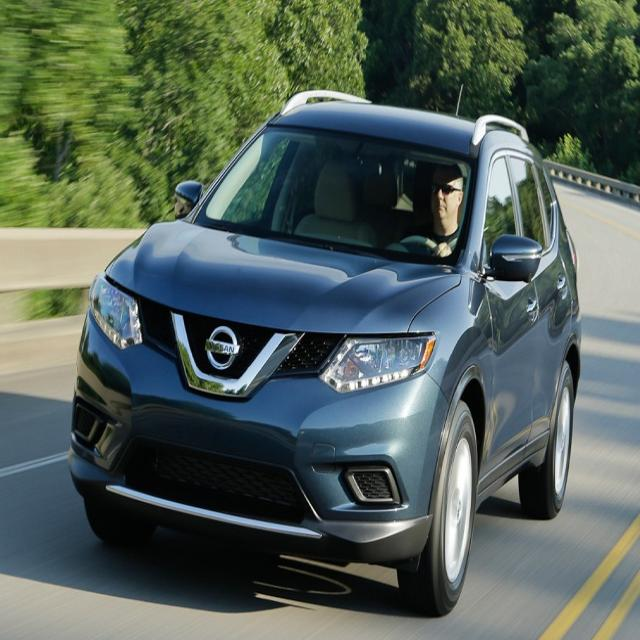back_left_side_light: (566, 228, 578, 272)
front_bumper: (63, 430, 435, 570)
front_glass: (202, 125, 474, 267)
front_left_side_light: (317, 330, 437, 397)
front_left_side_mirror: (483, 233, 544, 281)
front_right_side_door: (473, 143, 541, 495)
front_right_side_light: (86, 269, 144, 353)
front_right_side_mirror: (173, 176, 204, 212)
wheel: (399, 408, 478, 618), (519, 367, 575, 519)
